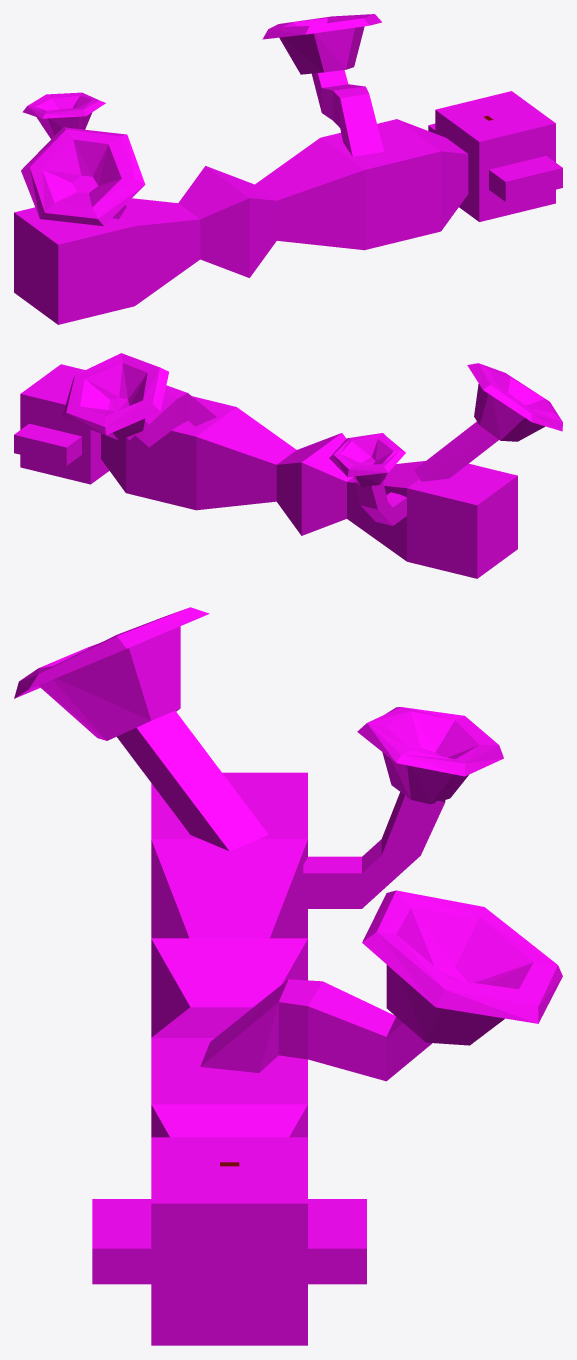
Rendered from totemtreerotten5.obj.
3 views of the same model, one above another, from view 1: azimuth 30°, elevation 25°; view 2: azimuth 150°, elevation 25°; view 3: azimuth 270°, elevation 25° (orthographic). The views are drawn at different scales.
Visible parts, largest first — view 1: totemtreerotten5_back; view 2: totemtreerotten5_back; view 3: totemtreerotten5_back.
Part boxes in pixels (left/top/right/bottom): totemtreerotten5_back: left=14, top=14, right=562, bottom=324; totemtreerotten5_back: left=14, top=353, right=562, bottom=578; totemtreerotten5_back: left=14, top=607, right=562, bottom=1345.
Size of the model in its own units: 2.22 by 0.73 by 1.12.
